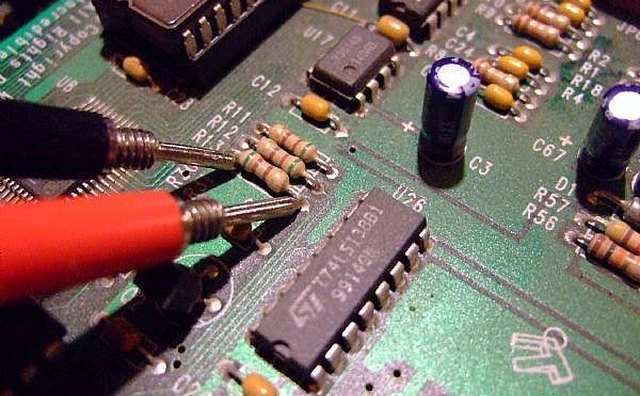capacitor: (416, 44, 484, 181), (585, 66, 638, 189)
